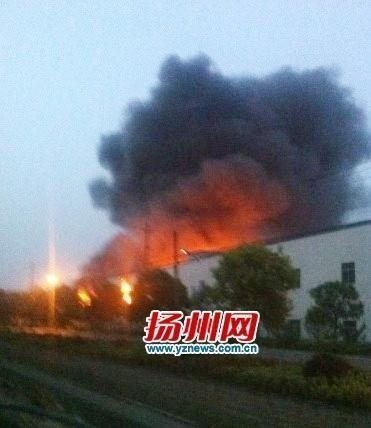fire: (116, 274, 136, 305)
